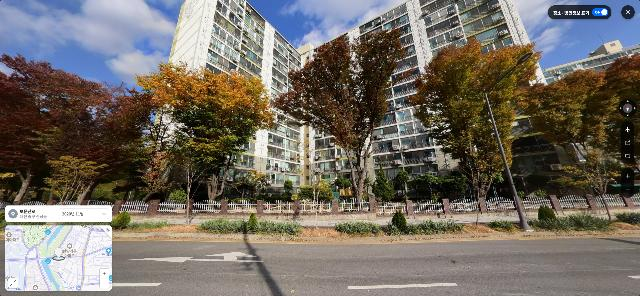other: (270, 25, 416, 204), (409, 35, 541, 224), (134, 60, 278, 205), (0, 52, 128, 205), (526, 53, 639, 207), (95, 84, 186, 206), (31, 154, 102, 206)
